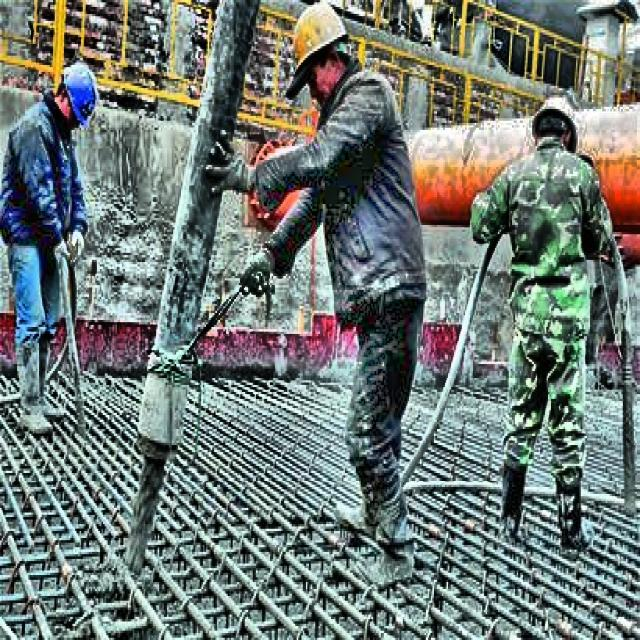helmet: (286, 5, 356, 102), (58, 60, 100, 132), (530, 102, 578, 158)
